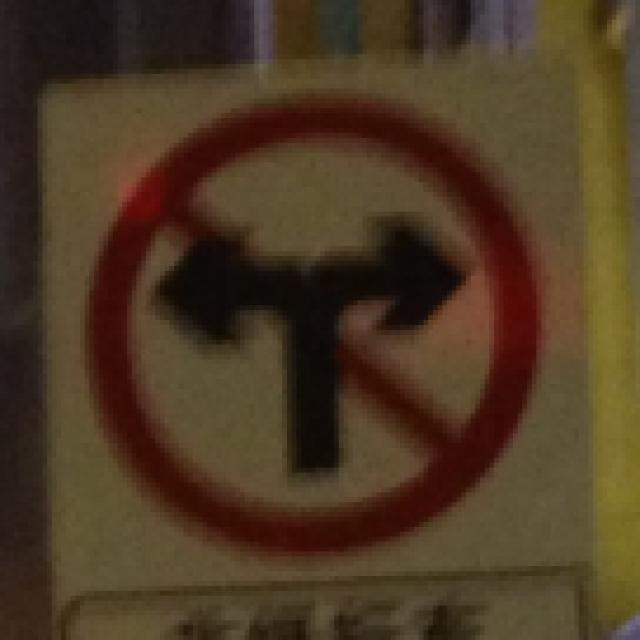Not that Direction: (81, 111, 536, 550)
